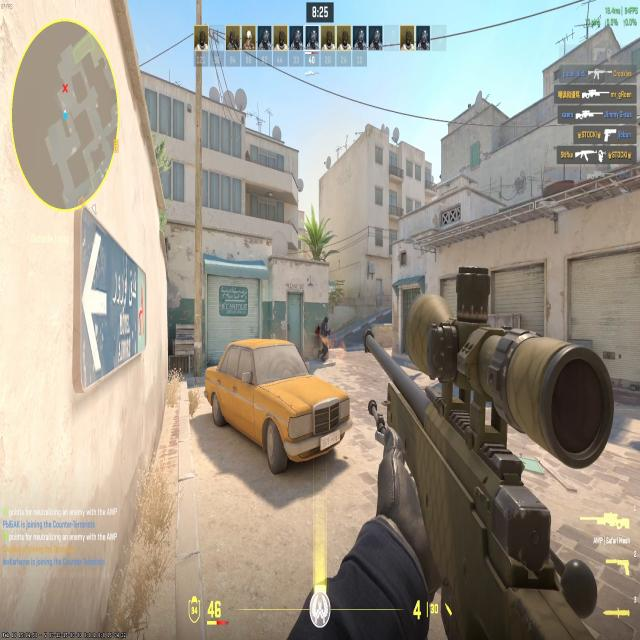player: (316, 312, 333, 366)
